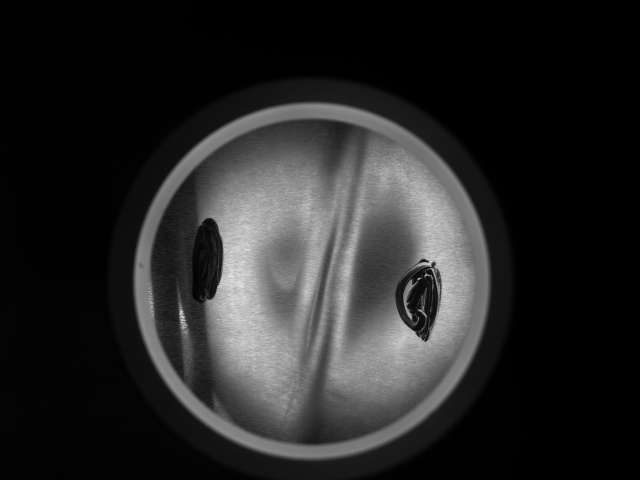zang_wu: (396, 259, 442, 346), (190, 216, 230, 306)
zhe_zhou: (199, 141, 423, 414)
